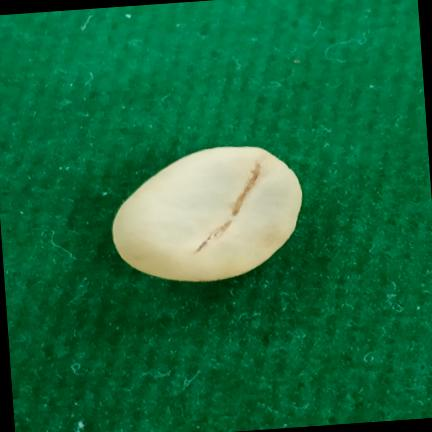parchment: (112, 146, 302, 281)
